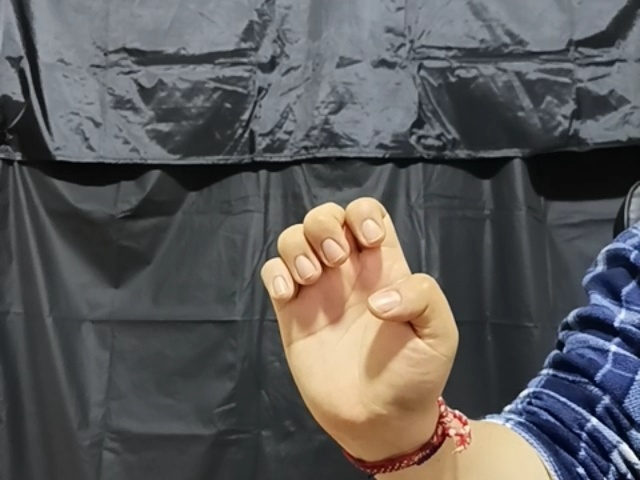E: (254, 194, 463, 444)
